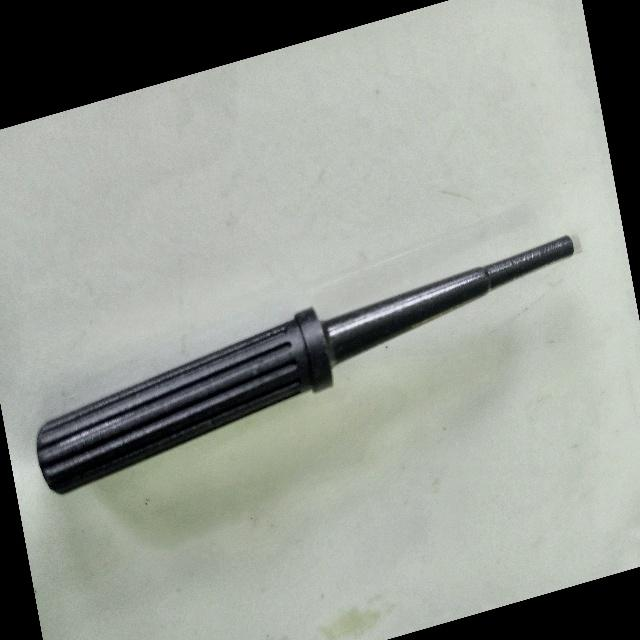Screw Driver: (12, 212, 600, 512)
